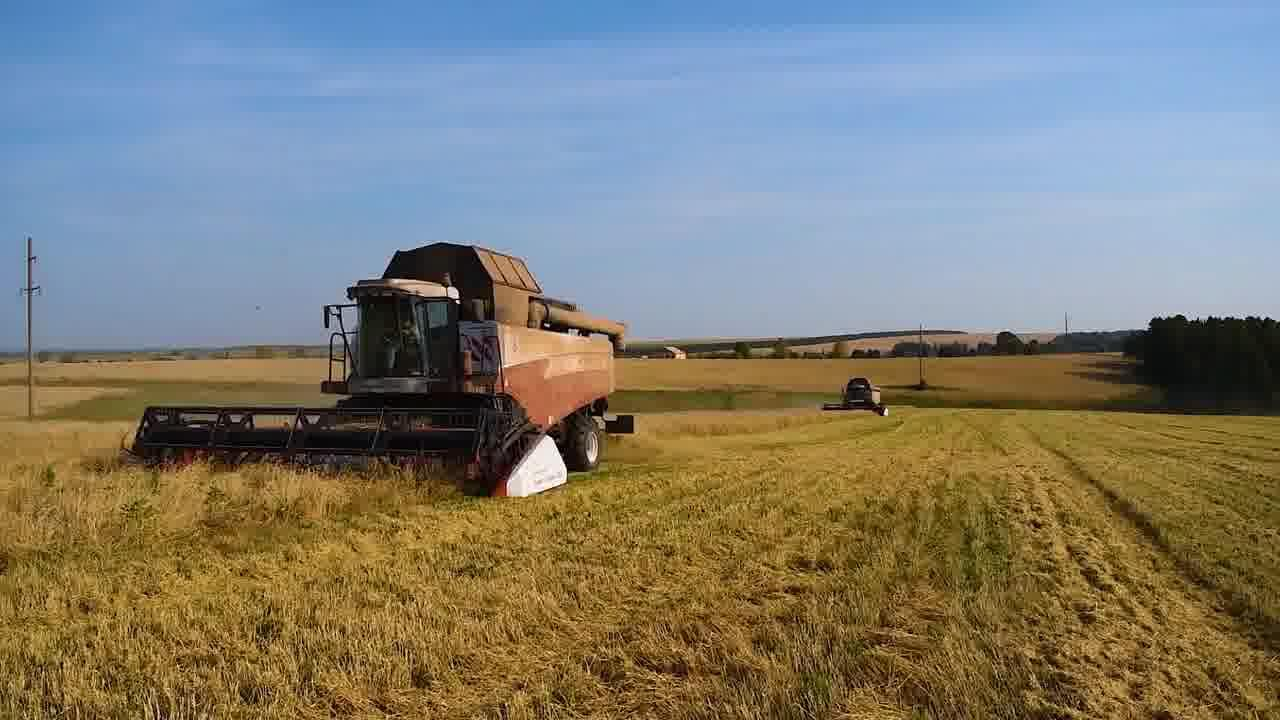combine harvester: (111, 236, 644, 505)
